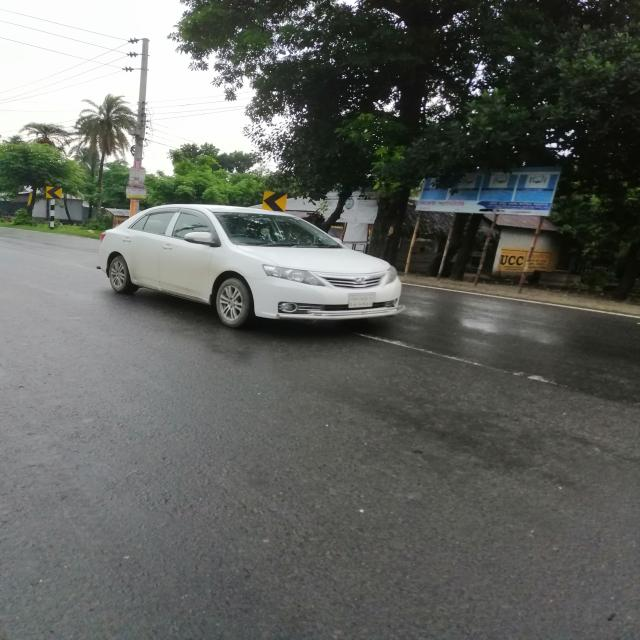Car: (94, 205, 417, 327)
